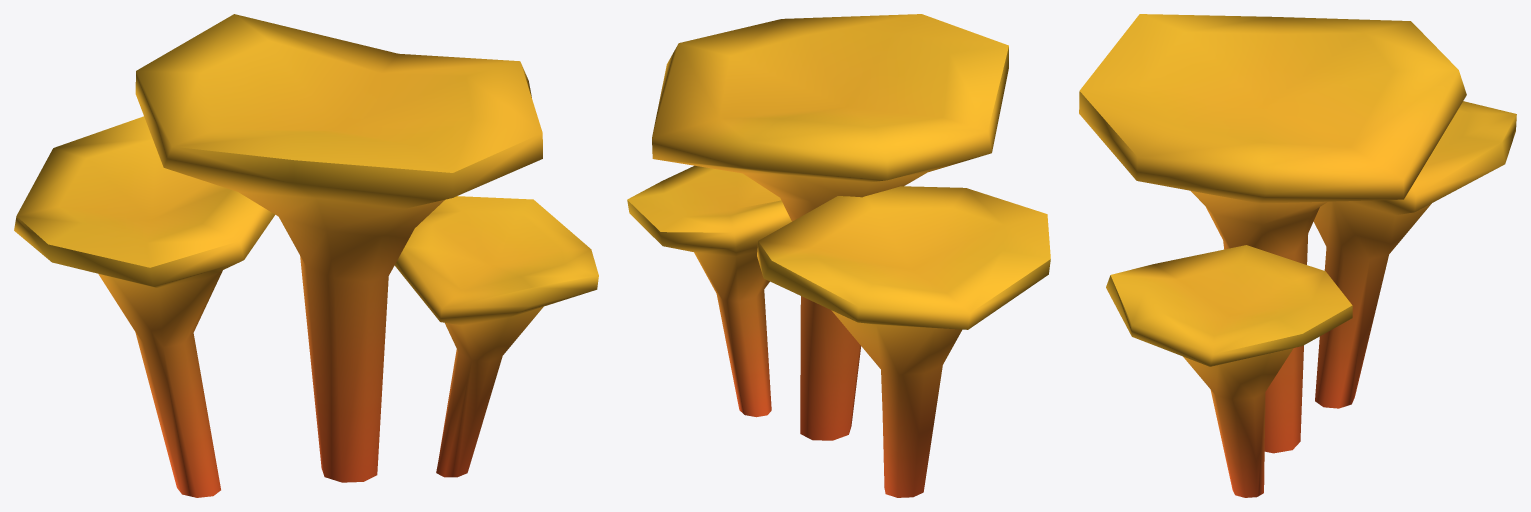
Rendered from mushroom_cibarius_3.fbx.
3 renders of one model, left to right at view 1: azimuth 30°, elevation 25°; view 2: azimuth 150°, elevation 25°; view 3: azimuth 270°, elevation 25°, orthographic. The views are drawn at different scales.
Parts seen in each view (by area): view 1: mushroom_cibarius_3.001; view 2: mushroom_cibarius_3.001; view 3: mushroom_cibarius_3.001.
Part boxes in pixels (x1=…): mushroom_cibarius_3.001: x1=14, y1=14, x2=598, y2=497; mushroom_cibarius_3.001: x1=627, y1=14, x2=1050, y2=497; mushroom_cibarius_3.001: x1=1079, y1=14, x2=1516, y2=497.
Bounding box in the file's own units: 0.4275 × 0.3451 × 0.3587.
